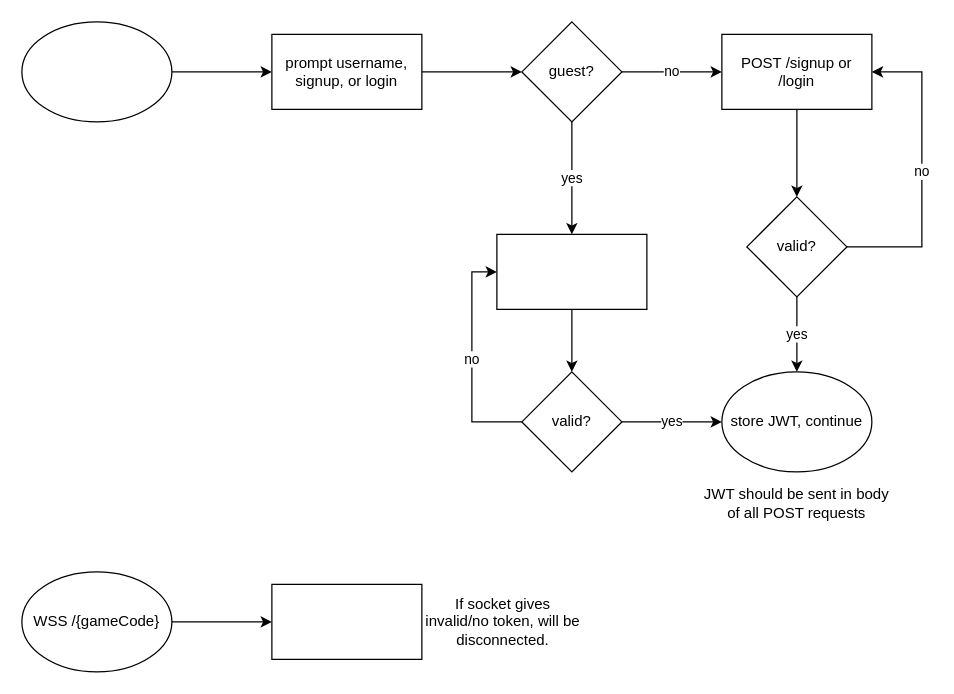
The diagram is 954 pixels wide and 694 high, and some of its shapes have lost their labels. Each missing label, with the centre of its shape:
give token: [346,621]
POST /guestSignup: [571,271]
site load: [96,71]
